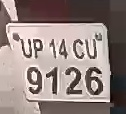1: (46, 65, 61, 96), (48, 38, 57, 60)
2: (64, 65, 84, 95)
4: (58, 38, 70, 61)
6: (84, 67, 105, 97)
9: (24, 63, 46, 99)
C: (71, 38, 86, 61)
P: (33, 38, 44, 59)
U: (18, 36, 34, 60), (85, 37, 98, 61)
